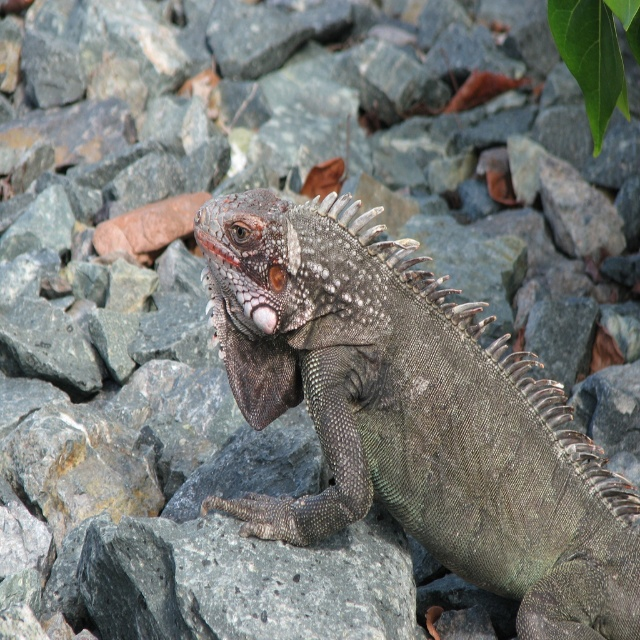Lizard: (193, 189, 640, 640)
